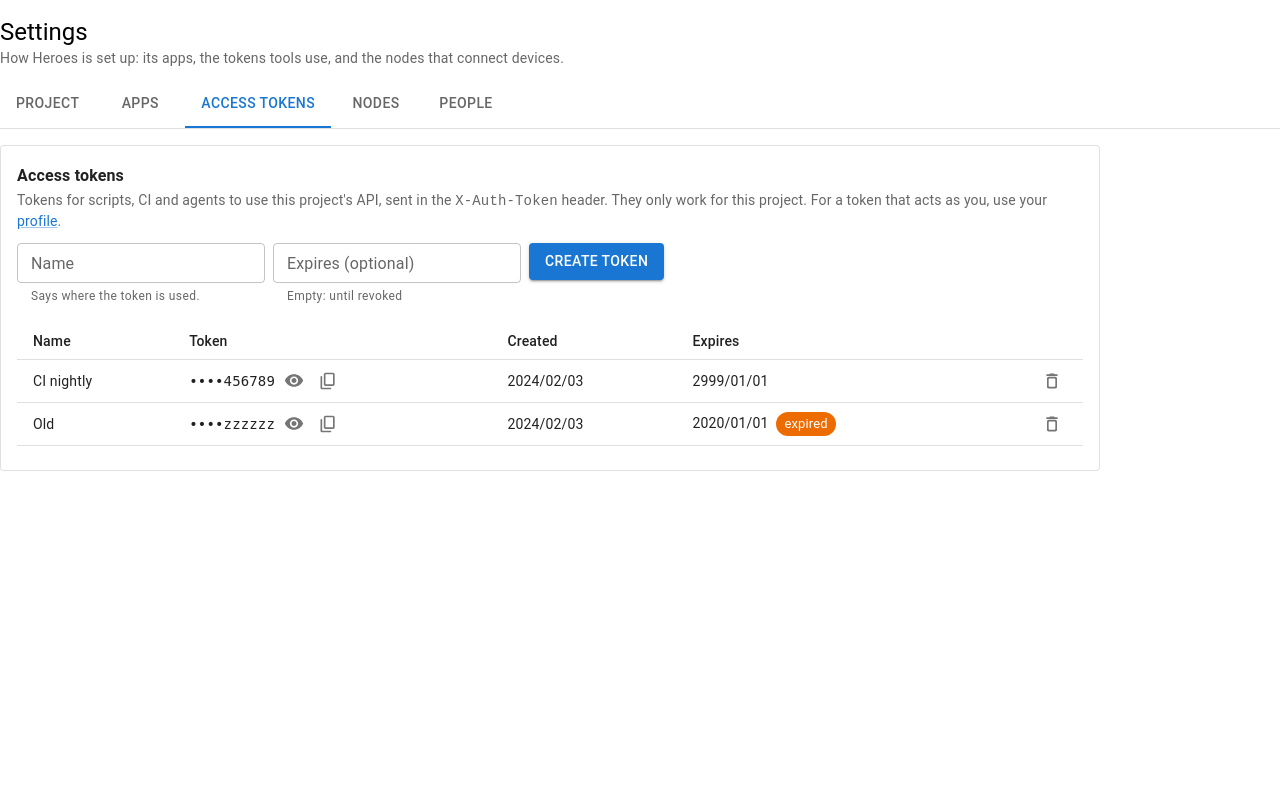
Settings > Access tokens > revoke: revokes a token after a confirmation and drops its command
The image size is (1280, 800).
Expected: the table named "Access tokens" is shown, [17,323,1083,446]
Type "Nightly" into the field labelled "Name" at (141, 263), box [17,243,265,283]
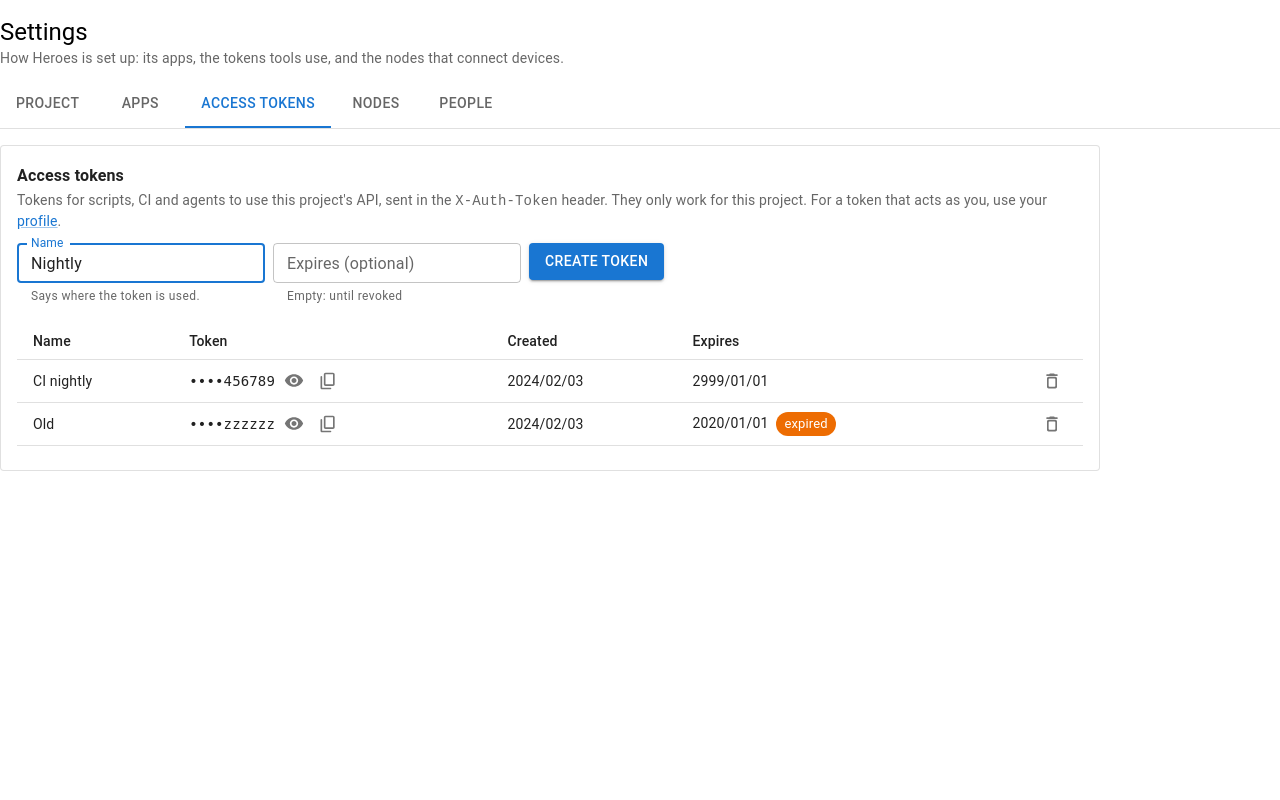
Click the button "Create token" at (597, 261), box [529,243,664,280]
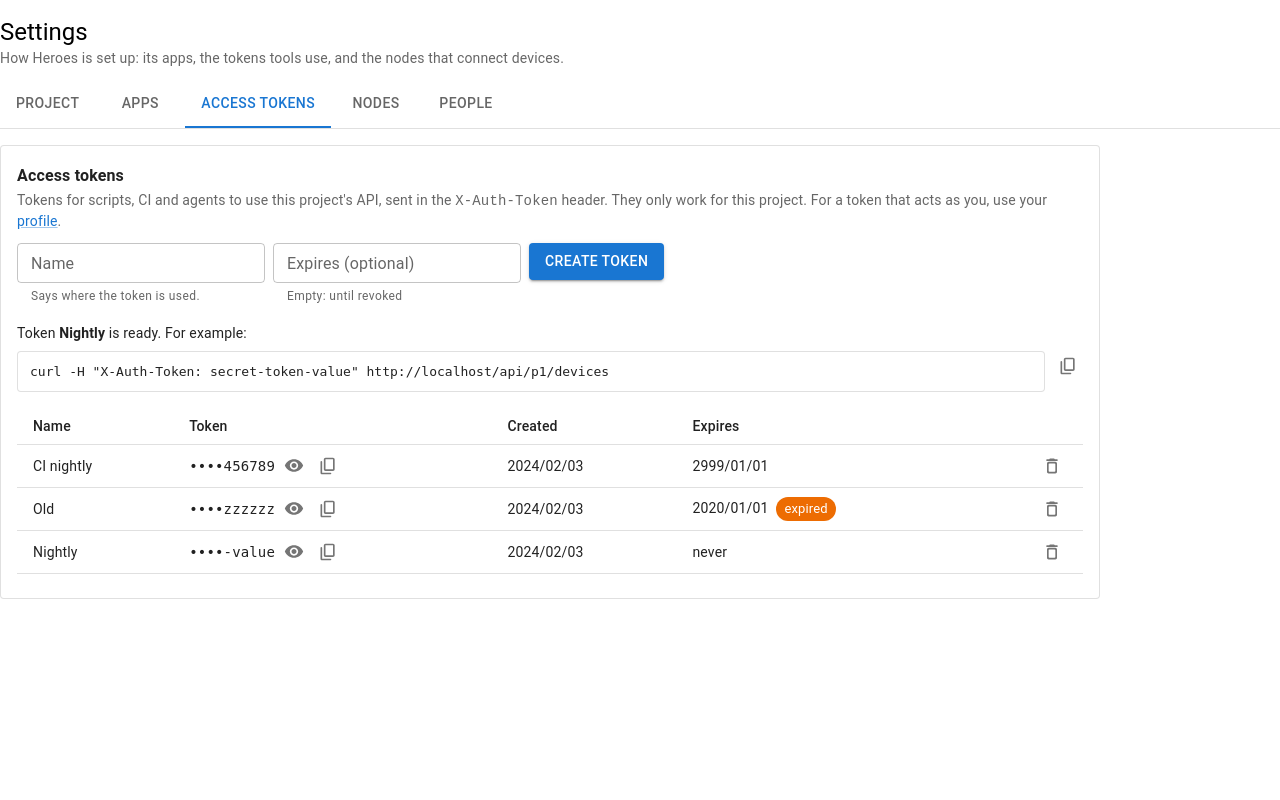
Expected: the text "Token Nightly is ready. For example:" is shown, [17,325,247,341]
Click the button named "Revoke Nightly" at (1052, 552), box [1037,537,1067,567]
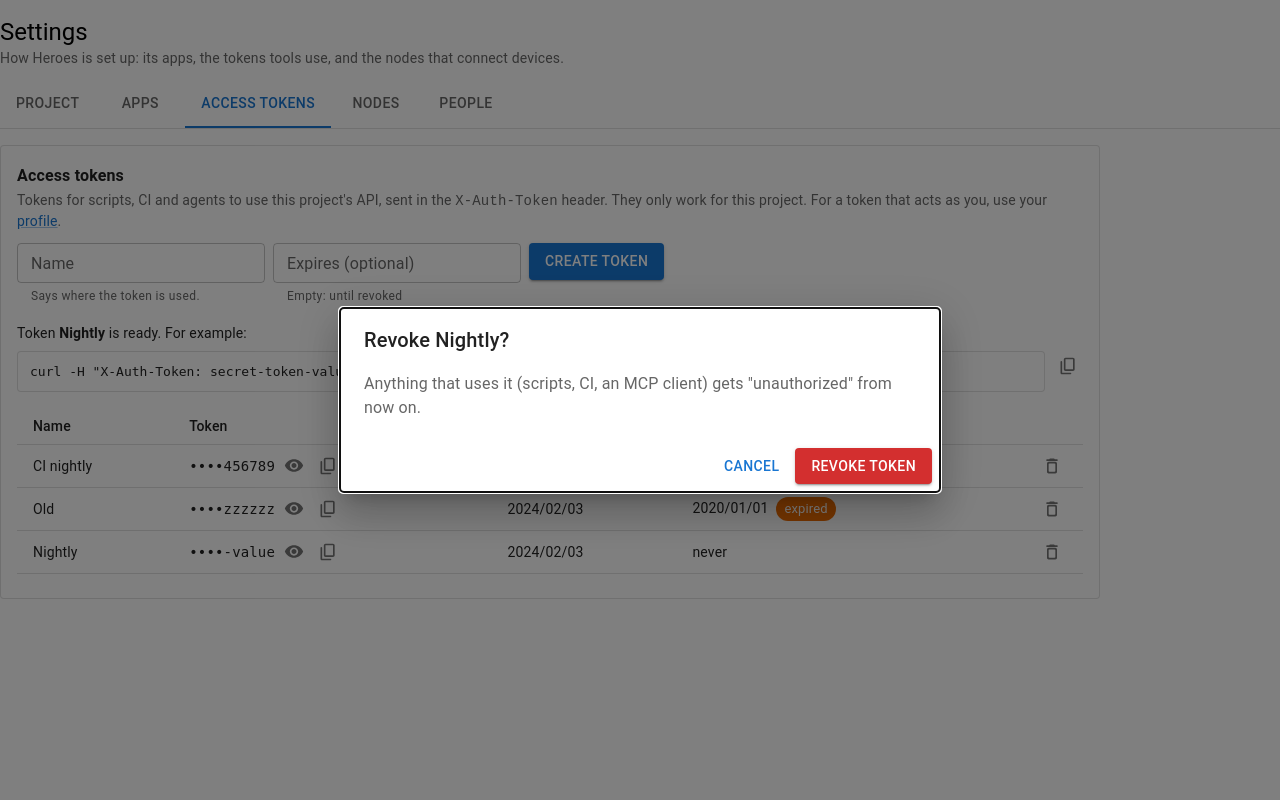
Click the button "Revoke token" at (864, 466), box [795,448,932,484]
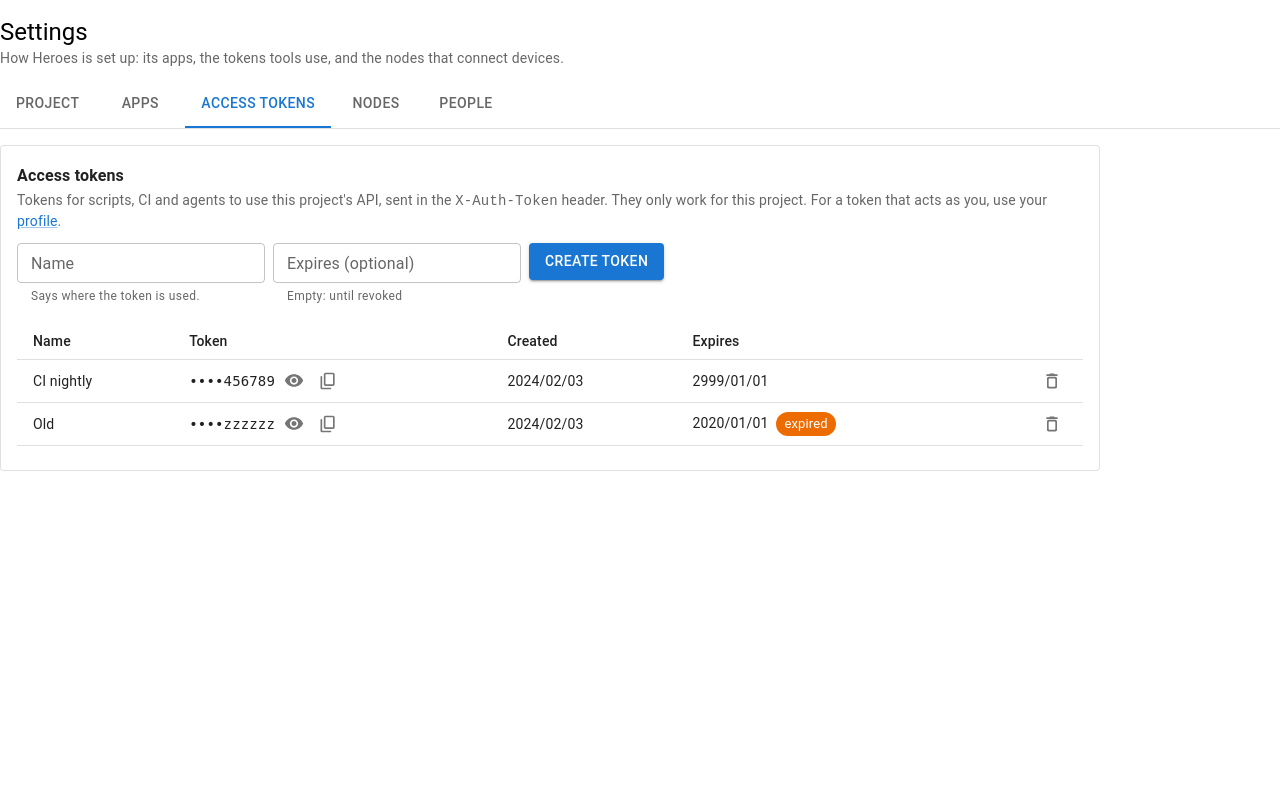
Expected: the text "is ready" is gone
Expected: the heading "Revoke Nightly" is gone
